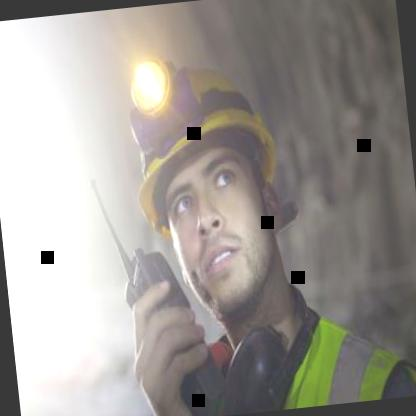helmet: (113, 58, 314, 342)
